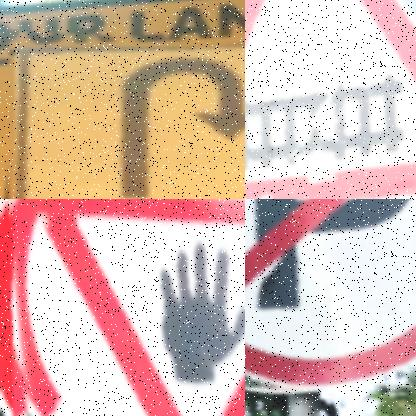No Parking: (245, 199, 416, 388)
Railway Crossing: (245, 0, 416, 199)
Stop: (14, 199, 245, 416)
U-Turn: (21, 48, 245, 199)
